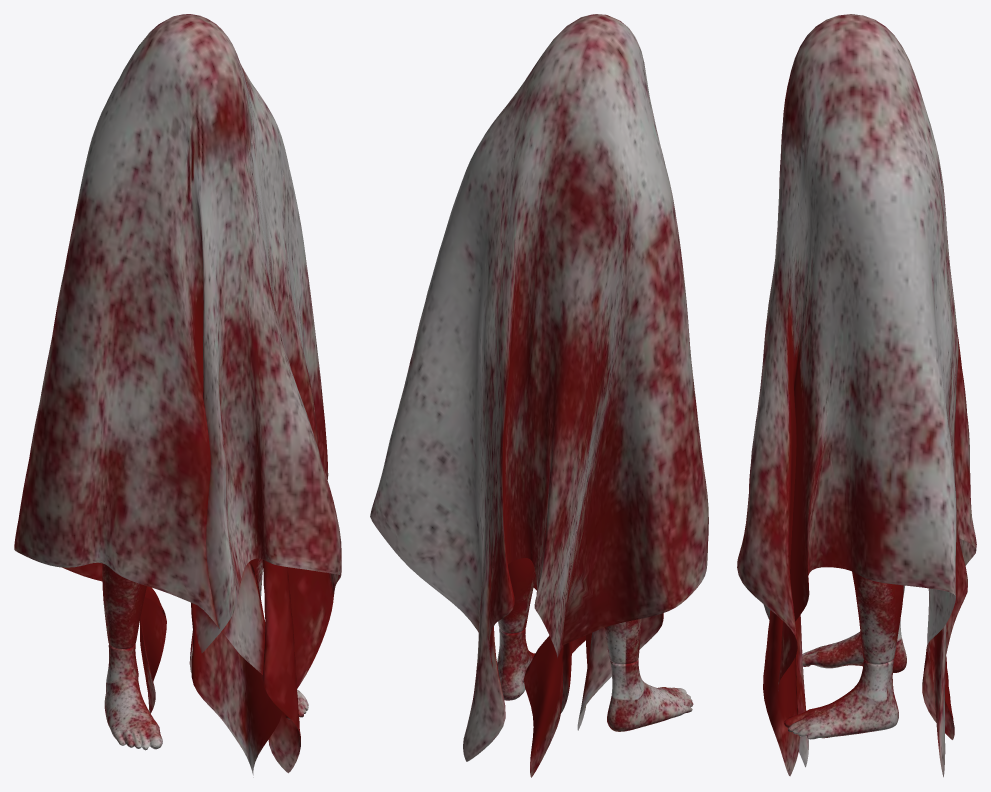
The model's file is boese.glb.
3 renders of one model, left to right at view 1: azimuth 30°, elevation 25°; view 2: azimuth 150°, elevation 25°; view 3: azimuth 270°, elevation 25°, orthographic. The views are drawn at different scales.
Visible parts, largest first — view 1: Plane__0, Ch36_Ch36_Body_0; view 2: Plane__0, Ch36_Ch36_Body_0; view 3: Plane__0, Ch36_Ch36_Body_0.
Part boxes in pixels (x1,y1,x2,y2): Plane__0: [14, 14, 341, 777]; Ch36_Ch36_Body_0: [102, 558, 308, 750]; Plane__0: [370, 14, 708, 777]; Ch36_Ch36_Body_0: [497, 558, 693, 731]; Plane__0: [737, 14, 976, 777]; Ch36_Ch36_Body_0: [784, 571, 906, 739].
Bounding box in the file's own units: 1.16 × 2.7 × 0.804.
Materials: 2 (2 with a texture image).
